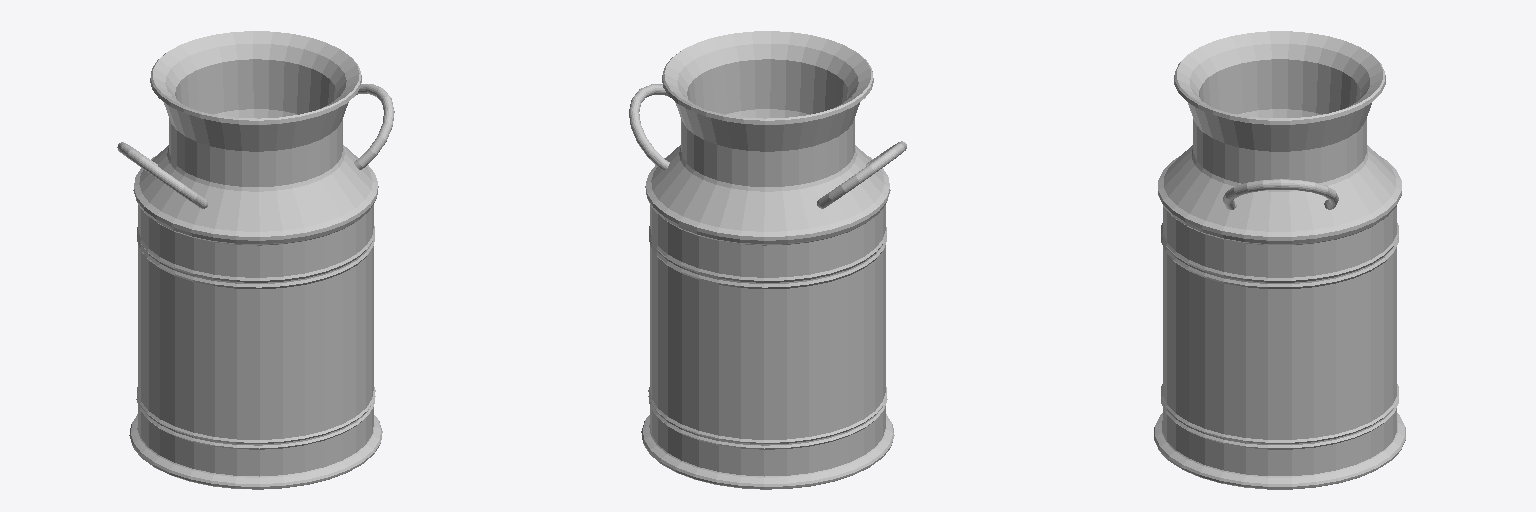
The model's file is FloreroMetal.obj.
3 views of the same model, side by side, from view 1: azimuth 30°, elevation 25°; view 2: azimuth 150°, elevation 25°; view 3: azimuth 270°, elevation 25° (orthographic).
Visible parts, largest first — view 1: FloreroMetal; view 2: FloreroMetal; view 3: FloreroMetal.
Part boxes in pixels (left/top/right/bottom): FloreroMetal: left=117, top=31, right=394, bottom=489; FloreroMetal: left=629, top=31, right=906, bottom=489; FloreroMetal: left=1154, top=31, right=1405, bottom=489.
Bounding box in the file's own units: 2.97 × 3.98 × 2.51.